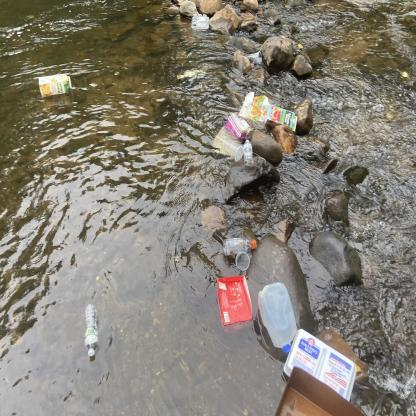trash: (280, 326, 358, 404), (272, 363, 370, 416), (256, 278, 298, 354), (214, 272, 254, 334), (80, 296, 102, 364), (238, 90, 271, 127), (36, 72, 76, 102), (262, 102, 300, 131), (220, 234, 259, 257), (224, 110, 248, 143), (220, 137, 244, 163), (232, 247, 256, 271), (235, 114, 254, 142), (240, 136, 254, 168), (190, 12, 211, 33), (244, 48, 265, 66)
